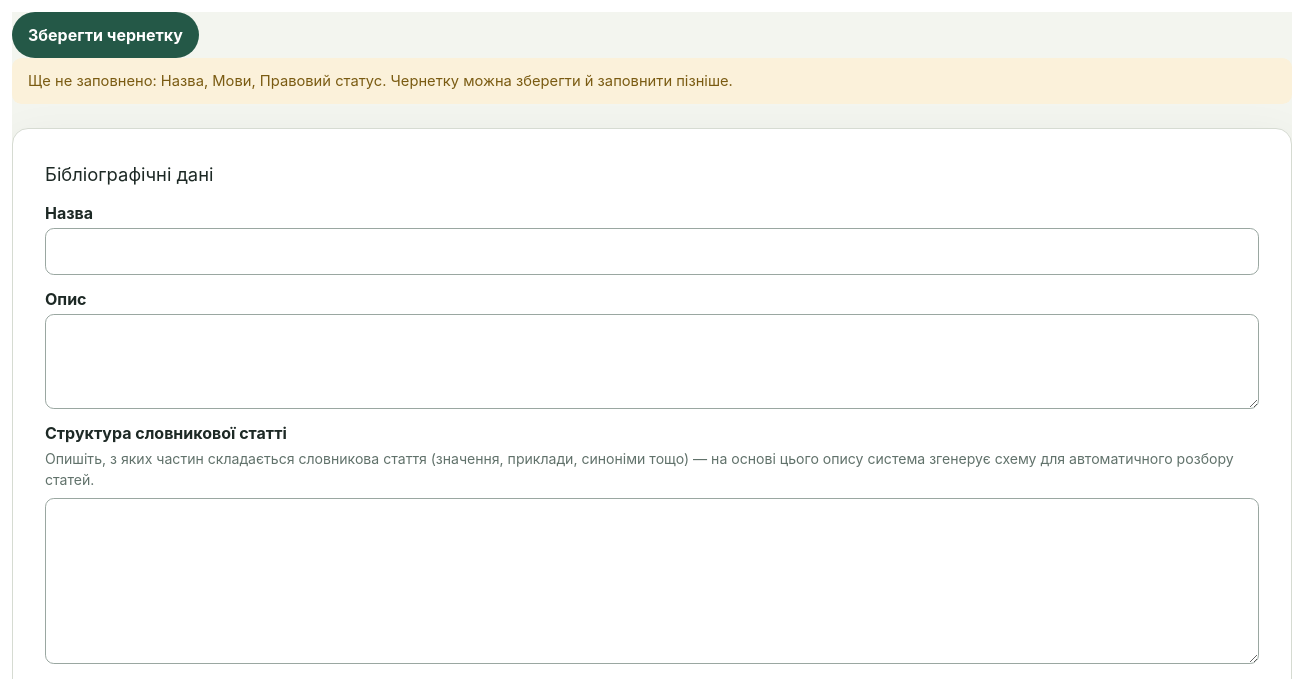
Test case: DictionaryMetadataForm › portals the save action into an external header slot
Type "Словник" into the field labelled "Назва". click: x=652, y=252
box: top-left (45, 228), bottom-right (1259, 275)
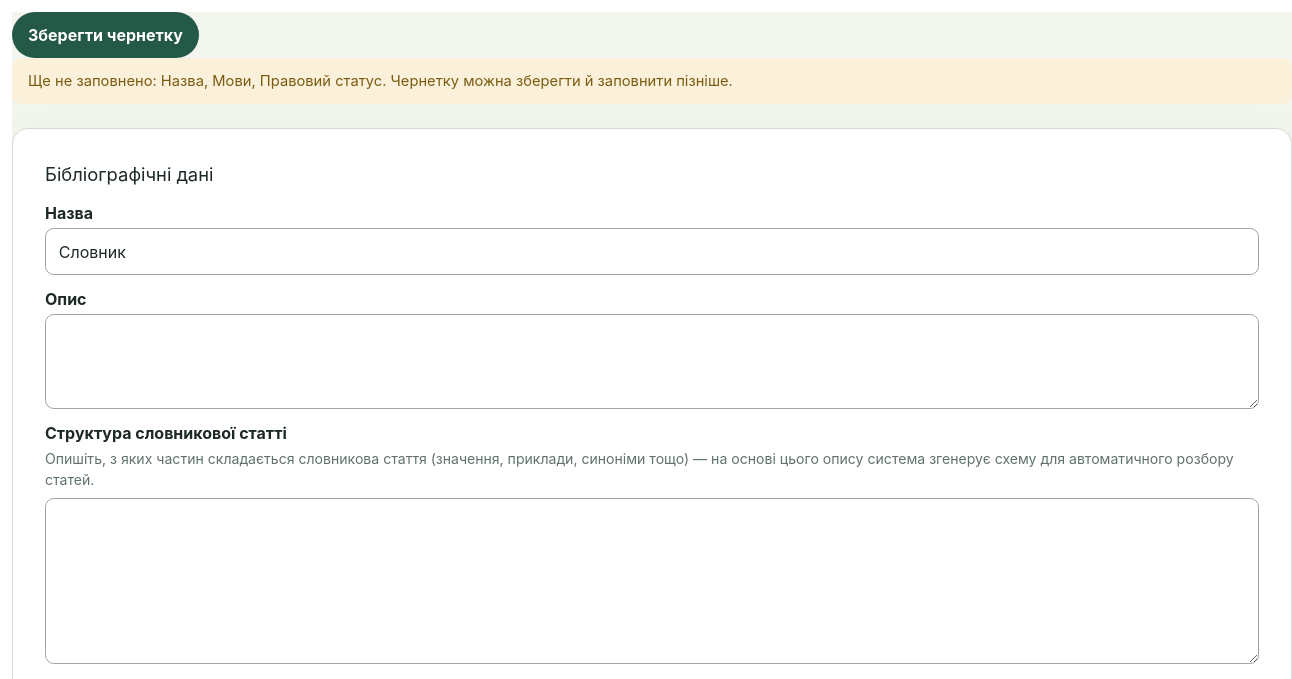
Click the button "Зберегти чернетку". click: x=105, y=35
box: top-left (12, 12), bottom-right (199, 58)
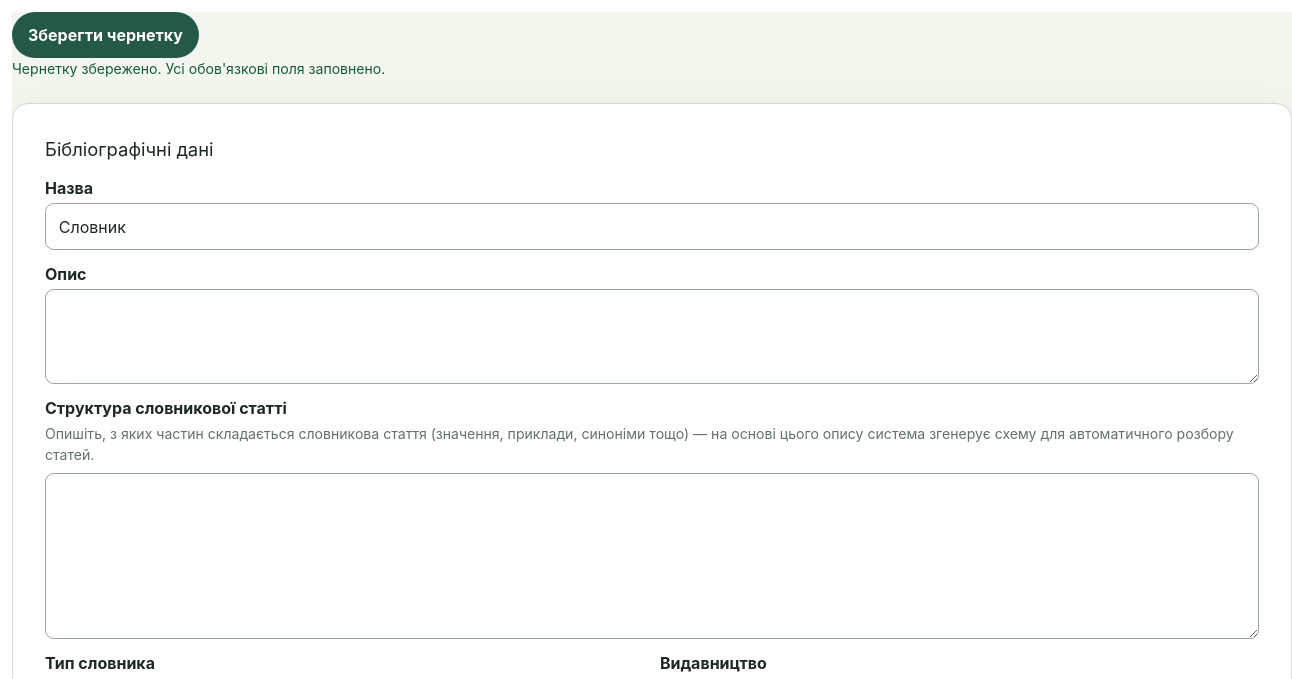
Result: the message shows "Усі обов'язкові поля" at top-left (12, 60), bottom-right (385, 77)
